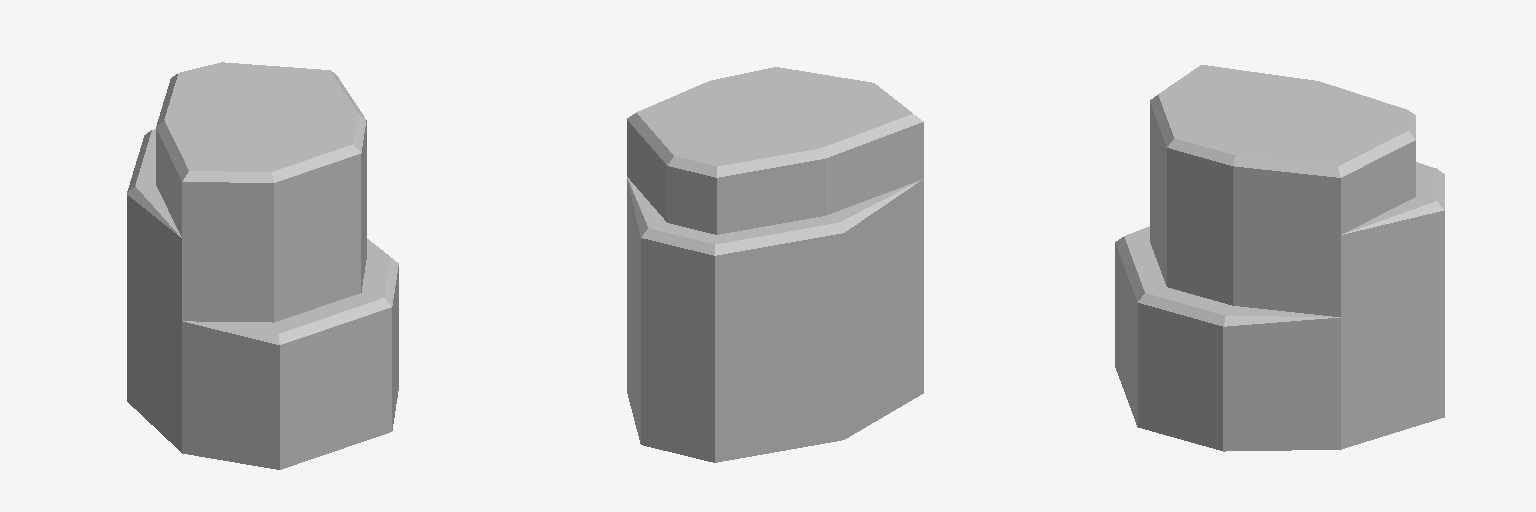
The model's file is Rock_1_I_Color1.obj.
3 renders of one model, left to right at view 1: azimuth 30°, elevation 25°; view 2: azimuth 150°, elevation 25°; view 3: azimuth 270°, elevation 25°, orthographic.
Visible parts, largest first — view 1: Rock_1_I_Color1; view 2: Rock_1_I_Color1; view 3: Rock_1_I_Color1.
Boxes of the visible parts, x1=… form: Rock_1_I_Color1: x1=127, y1=62, x2=398, y2=469; Rock_1_I_Color1: x1=627, y1=67, x2=923, y2=462; Rock_1_I_Color1: x1=1115, y1=65, x2=1444, y2=451.
Size of the model in its own units: 1.61 by 1.87 by 2.